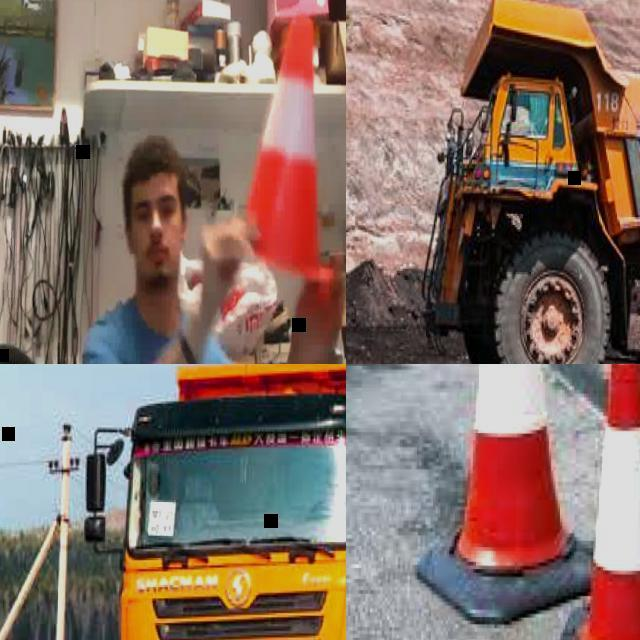machinery: (421, 0, 640, 364), (79, 364, 346, 640)
no_helmet: (125, 136, 184, 186)
no_mask: (135, 239, 179, 285)
no_vest: (105, 301, 219, 364)
person: (83, 132, 346, 364), (536, 104, 566, 146)
safety_cone: (419, 364, 604, 627), (235, 8, 342, 300), (553, 364, 640, 640)
vest: (538, 113, 562, 136)
